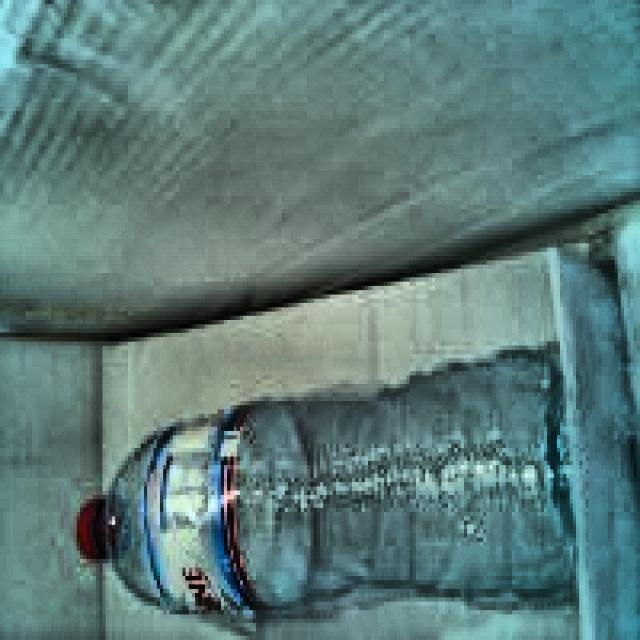plastic bottle: (80, 350, 574, 612)
